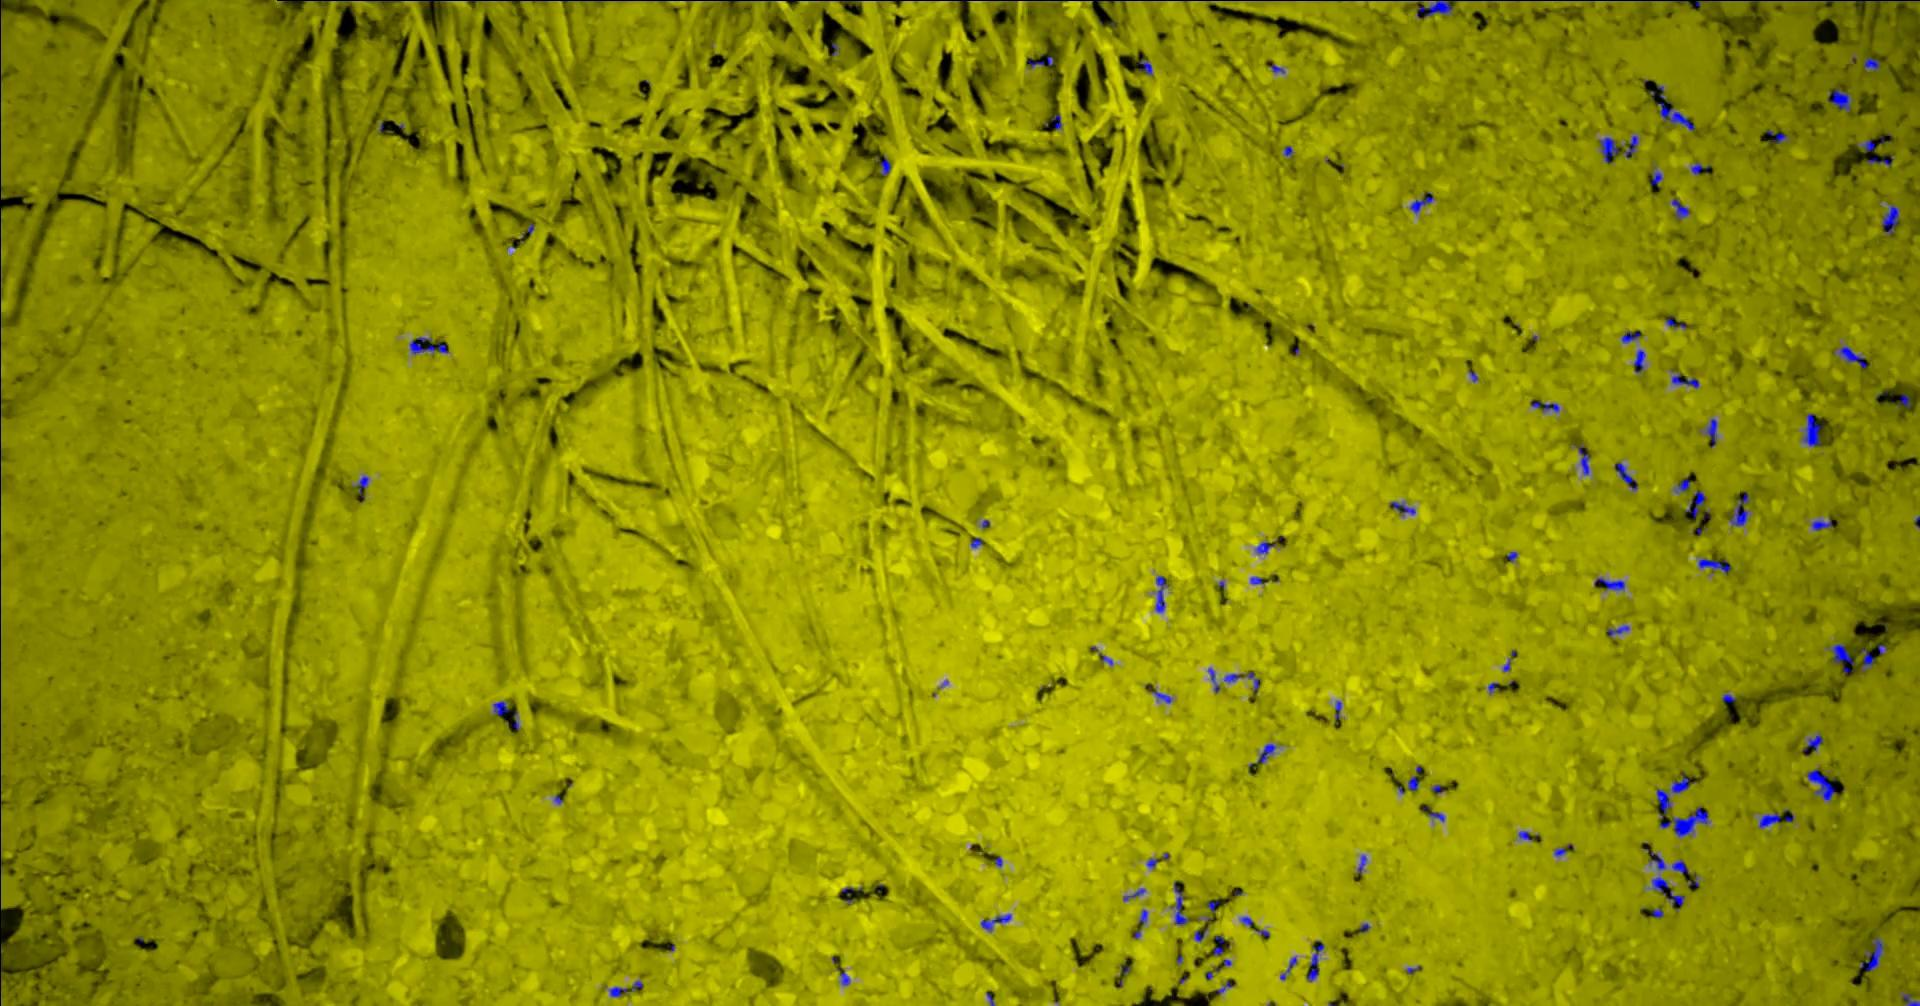ant: (1656, 771, 1709, 836), (1656, 85, 1694, 130), (1651, 876, 1684, 909), (1806, 767, 1837, 800), (1859, 937, 1884, 970), (1170, 882, 1189, 923), (1827, 643, 1853, 673), (1305, 940, 1324, 981), (1832, 345, 1865, 368), (1416, 0, 1458, 17), (409, 337, 447, 354), (1759, 808, 1793, 827), (1614, 462, 1637, 490), (1802, 413, 1821, 446), (1730, 493, 1749, 526), (1684, 492, 1705, 518), (1572, 443, 1590, 475), (1597, 136, 1618, 163), (1881, 205, 1898, 235), (980, 913, 1011, 931), (1829, 88, 1851, 111), (608, 981, 643, 996), (1697, 558, 1730, 573), (1410, 192, 1432, 213), (1802, 733, 1822, 754), (1255, 743, 1276, 763), (1156, 575, 1167, 612), (1279, 956, 1297, 979), (1594, 577, 1624, 589), (1671, 373, 1698, 387), (1671, 198, 1689, 218), (1027, 55, 1053, 69), (1389, 500, 1415, 514), (1418, 807, 1444, 821), (1623, 135, 1638, 158), (1648, 851, 1666, 870), (1860, 647, 1874, 671), (1530, 400, 1559, 412), (1671, 859, 1694, 873), (876, 155, 891, 175), (841, 887, 861, 902), (352, 475, 368, 493), (1632, 349, 1644, 372), (1606, 624, 1629, 636), (1208, 667, 1219, 692), (1705, 418, 1716, 446), (1244, 671, 1258, 691), (1865, 155, 1892, 165), (1665, 315, 1685, 328), (1811, 517, 1831, 530), (1150, 690, 1171, 702), (1211, 935, 1224, 955), (491, 700, 508, 715), (1768, 130, 1785, 144), (1857, 138, 1876, 151), (1622, 330, 1641, 343), (1690, 163, 1710, 174), (1255, 541, 1275, 553), (1139, 57, 1152, 75), (1650, 166, 1662, 184), (1674, 478, 1689, 492), (1863, 57, 1879, 70), (1901, 993, 1919, 1005), (1050, 113, 1062, 130), (1896, 394, 1910, 406), (1407, 775, 1418, 790), (1335, 700, 1341, 721), (1853, 0, 1919, 1)
